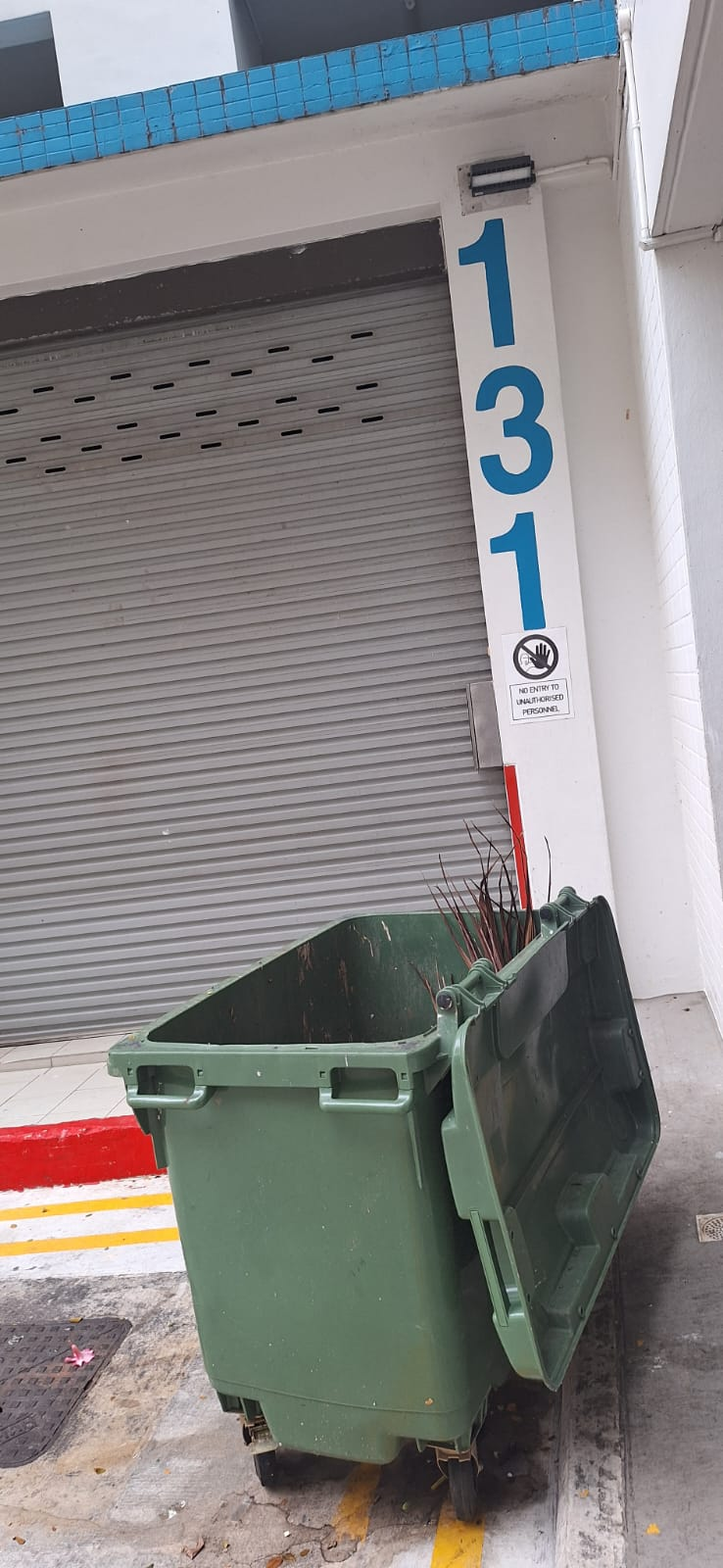bin_empty: (109, 847, 659, 1521)
